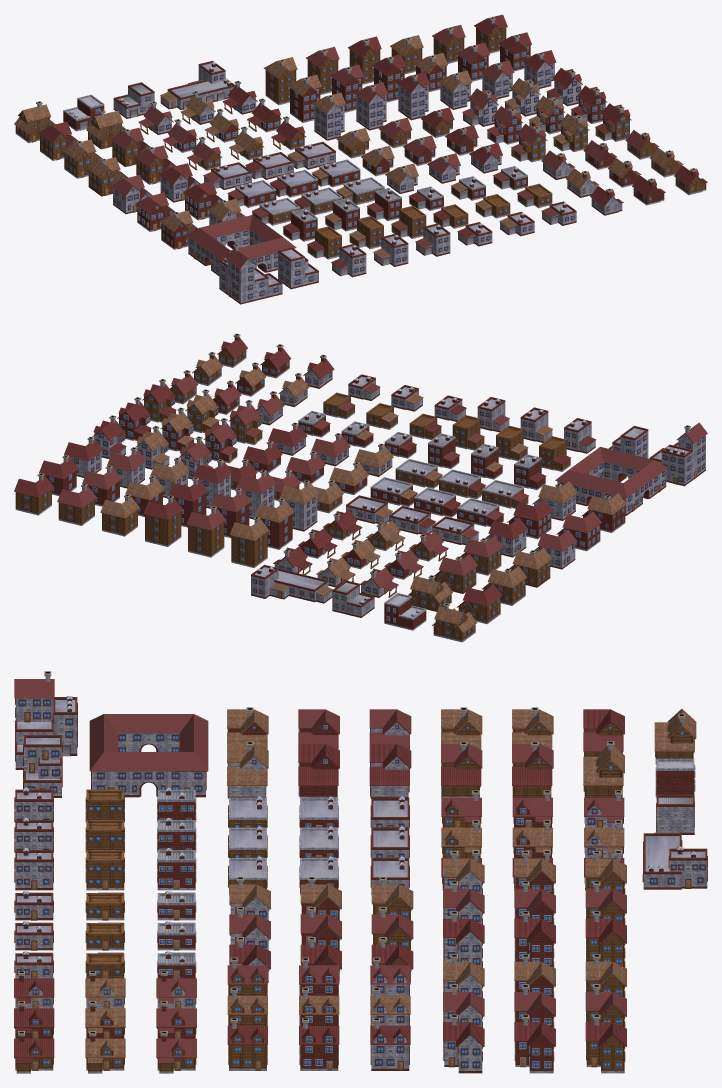
Rendered from Handpainted_houses_pack.glb.
The picture shows the model from 3 angles, top to bottom: view 1: azimuth 30°, elevation 25°; view 2: azimuth 150°, elevation 25°; view 3: azimuth 270°, elevation 25°; orthographic projection. The views are drawn at different scales.
Visible parts, largest first — view 1: House31_Atlas_0, House32_Atlas_0, House07_Atlas_0, House77_Atlas_0, House97_Atlas_0, House41_Atlas_0, House30_Atlas_0, House42_Atlas_0, House28_Atlas_0, House09_Atlas_0, House73_Atlas_0, House03_Atlas_0 (+88 smaller); view 2: House31_Atlas_0, House07_Atlas_0, House32_Atlas_0, House42_Atlas_0, House39_Atlas_0, House40_Atlas_0, House28_Atlas_0, House41_Atlas_0, House79_Atlas_0, House78_Atlas_0, House73_Atlas_0, House08_Atlas_0 (+86 smaller); view 3: House31_Atlas_0, House32_Atlas_0, House07_Atlas_0, House30_Atlas_0, House58_Atlas_0, House44_Atlas_0, House59_Atlas_0, House94_Atlas_0, House95_Atlas_0, House83_Atlas_0, House81_Atlas_0, House78_Atlas_0 (+85 smaller).
Part boxes in pixels (box(x1,y1,x2,y2)): House31_Atlas_0: box(186, 215, 296, 275); House32_Atlas_0: box(219, 244, 282, 304); House07_Atlas_0: box(160, 61, 235, 109); House77_Atlas_0: box(396, 72, 430, 120); House97_Atlas_0: box(354, 82, 387, 130); House41_Atlas_0: box(312, 92, 345, 140); House30_Atlas_0: box(278, 247, 318, 289); House42_Atlas_0: box(263, 57, 297, 105); House28_Atlas_0: box(288, 75, 321, 122); House09_Atlas_0: box(113, 82, 154, 118); House73_Atlas_0: box(14, 101, 55, 142); House03_Atlas_0: box(511, 124, 547, 162); House31_Atlas_0: box(555, 447, 668, 515); House07_Atlas_0: box(251, 564, 332, 603); House32_Atlas_0: box(649, 422, 707, 486); House42_Atlas_0: box(230, 516, 269, 567); House39_Atlas_0: box(186, 506, 225, 557); House40_Atlas_0: box(143, 495, 182, 546); House28_Atlas_0: box(254, 498, 293, 549); House41_Atlas_0: box(279, 480, 318, 531); House79_Atlas_0: box(57, 483, 96, 525); House78_Atlas_0: box(14, 473, 53, 515); House73_Atlas_0: box(432, 603, 477, 642); House08_Atlas_0: box(100, 494, 139, 536); House31_Atlas_0: box(89, 714, 208, 797); House32_Atlas_0: box(14, 671, 77, 769); House07_Atlas_0: box(642, 832, 707, 889); House30_Atlas_0: box(23, 735, 62, 797); House58_Atlas_0: box(227, 741, 268, 798); House44_Atlas_0: box(369, 743, 411, 798); House59_Atlas_0: box(298, 743, 339, 798); House94_Atlas_0: box(512, 741, 553, 797); House95_Atlas_0: box(441, 741, 482, 797); House83_Atlas_0: box(514, 1014, 555, 1073); House81_Atlas_0: box(443, 1014, 484, 1073); House78_Atlas_0: box(585, 1014, 626, 1073).
Size of the model in its own units: 167 by 16.79 by 146.
1 material, 1 textured.
